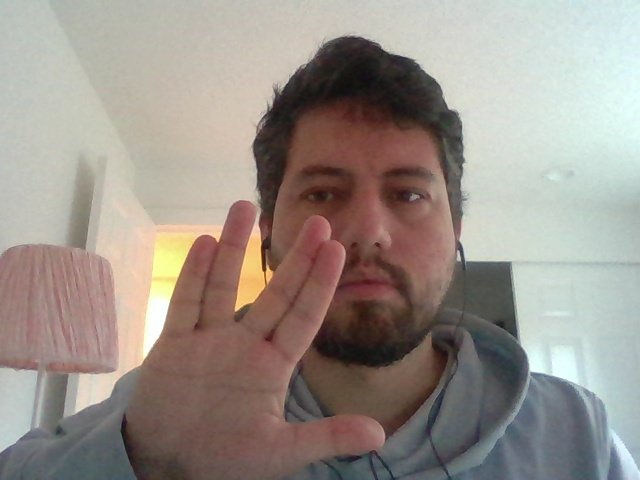LiveLong: (127, 192, 384, 478)
